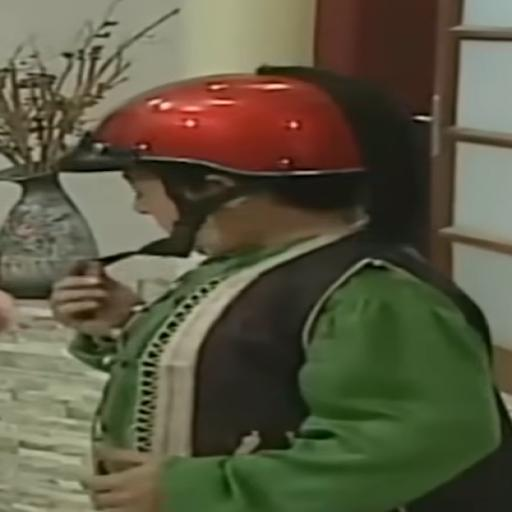fouchika: (131, 171, 263, 257)
